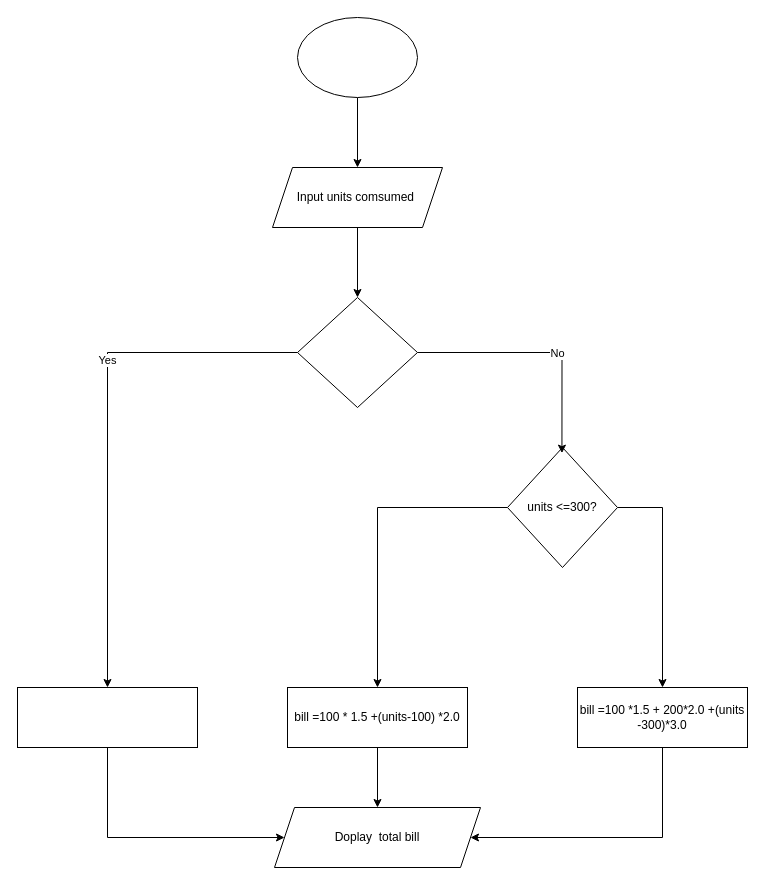
The diagram is 765 pixels wide and 885 high, and some of its shapes have lost their labels. The shapes that lost their labels are listed below. From the top down, each one's box as (x1, y1, x2, y2) in pixels, then its label:
(296, 16, 418, 98): Start
(296, 296, 418, 408): Units <=100?
(16, 686, 198, 748): bill = units*1.5
